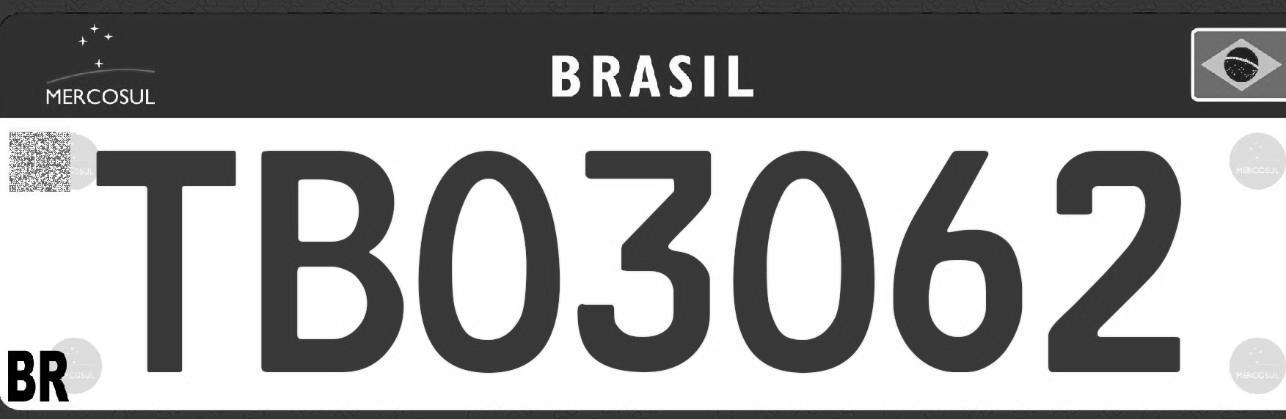placa_mercosul: (0, 13, 1285, 411)
